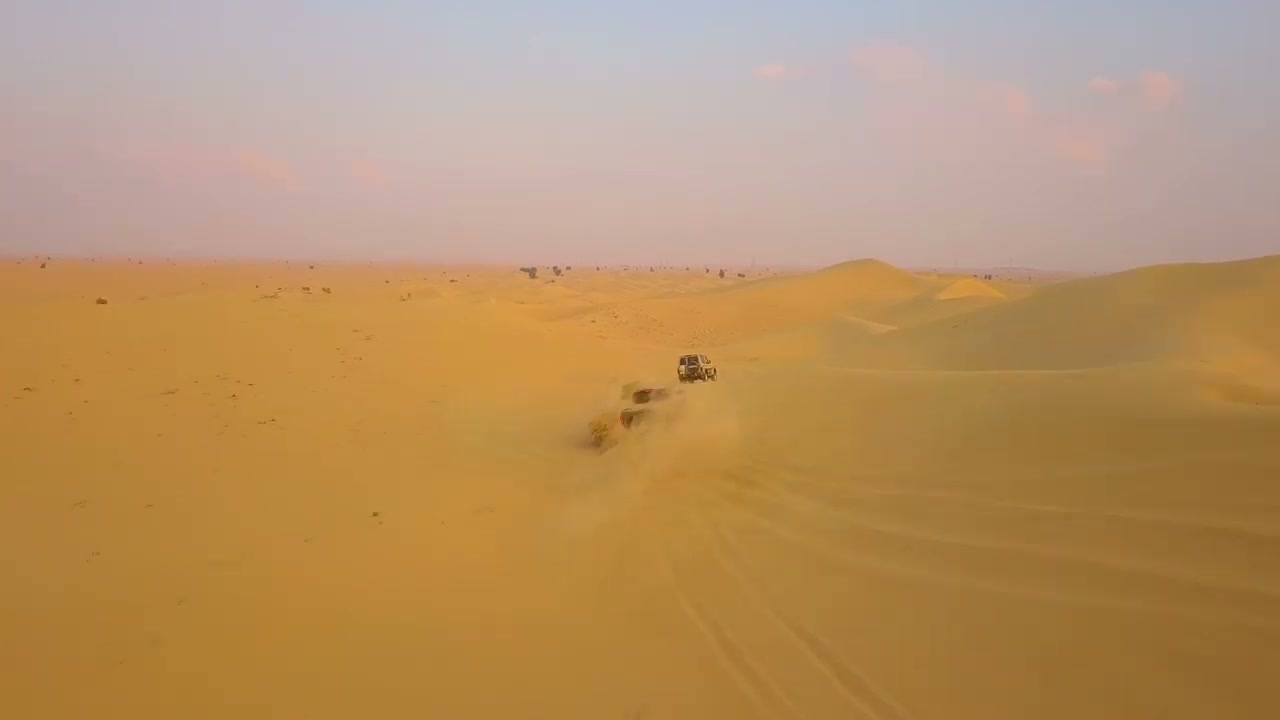vehicle_track: (734, 448, 1279, 631), (622, 488, 928, 719)
